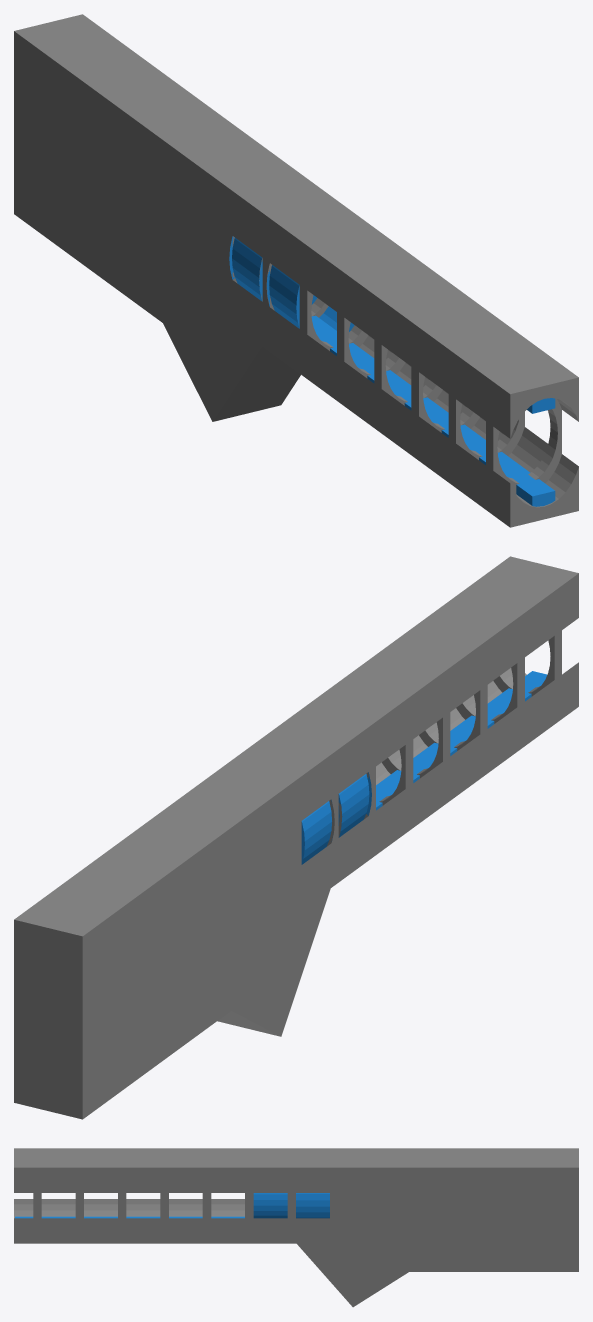
The model's file is weapon_003_rail_gun.fbx.
3 views of the same model, one above another, from view 1: azimuth 30°, elevation 25°; view 2: azimuth 150°, elevation 25°; view 3: azimuth 270°, elevation 25° (orthographic). The views are drawn at different scales.
Visible parts, largest first — view 1: Cube, Cube.001; view 2: Cube, Cube.001; view 3: Cube, Cube.001.
Part boxes in pixels (x1,y1,x2,y2): Cube: (14,14,578,527); Cube.001: (311,315,555,506); Cube: (14,556,578,1119); Cube.001: (376,671,546,810); Cube: (14,1148,578,1307); Cube.001: (15,1216,244,1218).
Bounding box in the file's own units: 0.44 × 1.37 × 5.
